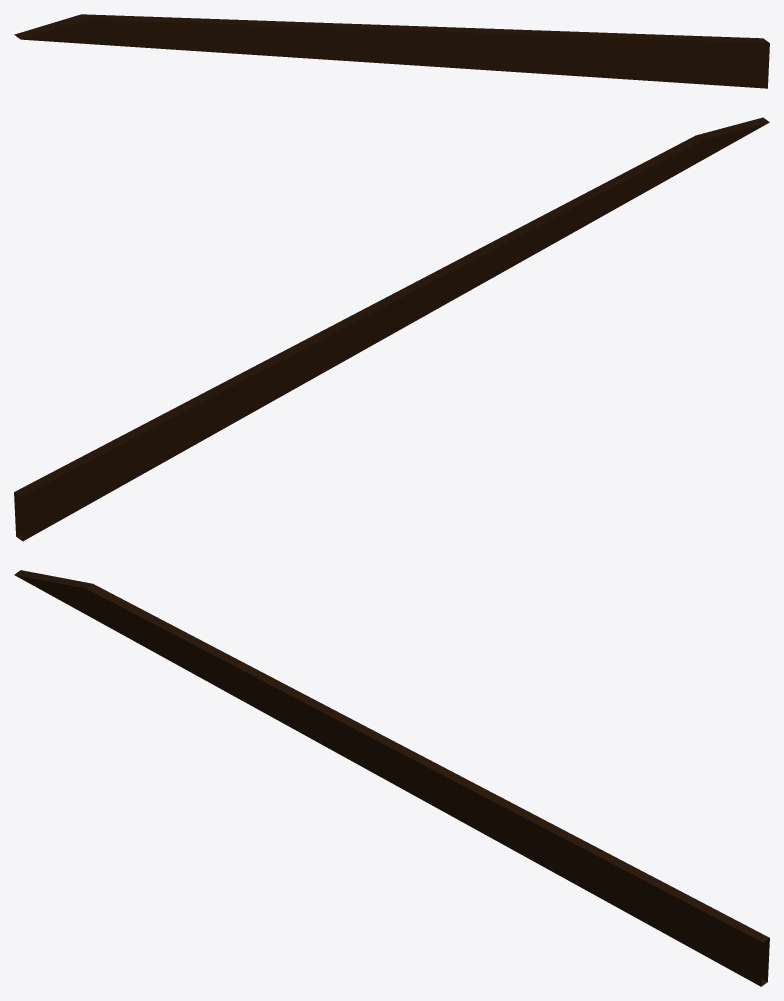
The model's file is Wood_Supports.FBX.
The picture shows the model from 3 angles, top to bottom: view 1: azimuth 30°, elevation 25°; view 2: azimuth 210°, elevation 25°; view 3: azimuth 330°, elevation 25°; orthographic projection.
Visible parts, largest first — view 1: Object001; view 2: Object001; view 3: Object001.
Boxes of the visible parts, x1,y1,x2,y2 form: Object001: (14,14,769,88); Object001: (14,117,769,541); Object001: (14,570,769,986).
Size of the model in its own units: 95.25 by 28.48 by 2.1.
